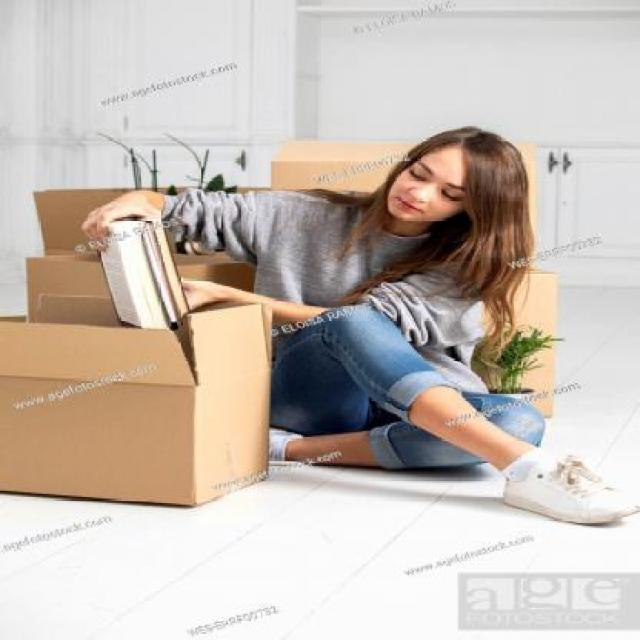box: (0, 296, 274, 509), (21, 186, 261, 319), (272, 134, 536, 202), (482, 266, 561, 419)
